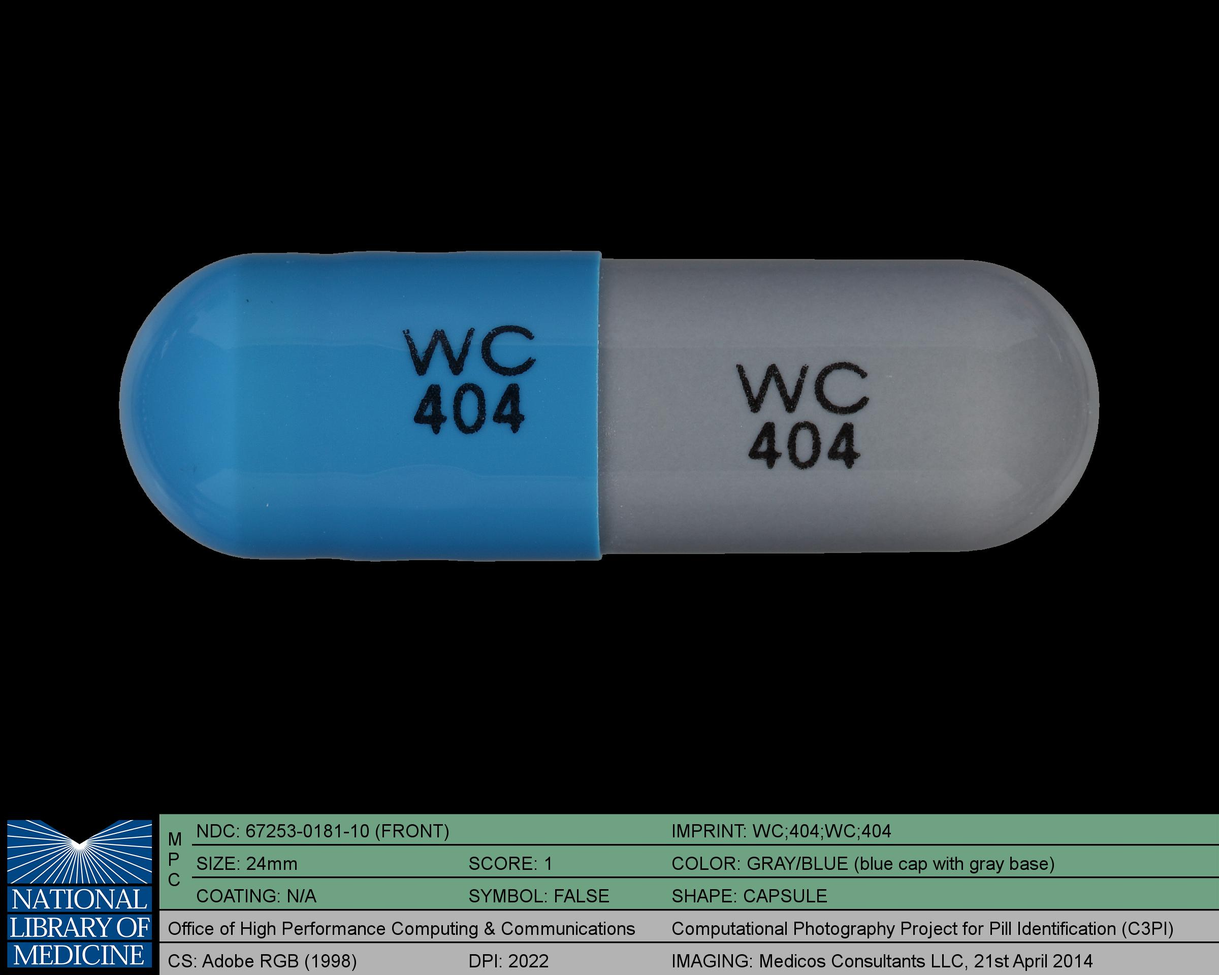Pill: (105, 237, 1111, 574)
